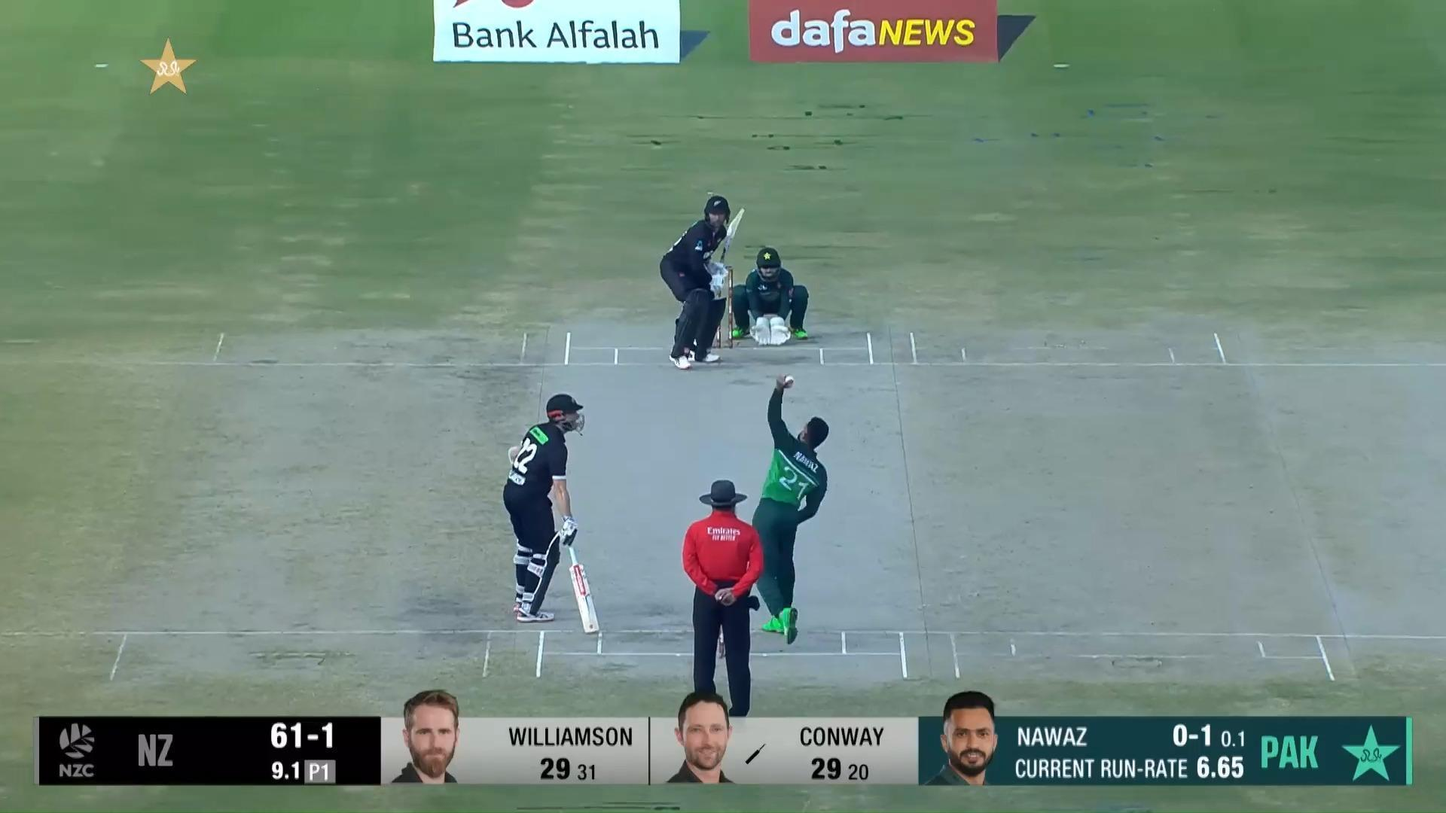BM 1: (659, 196, 746, 370)
BO: (748, 370, 831, 645)
